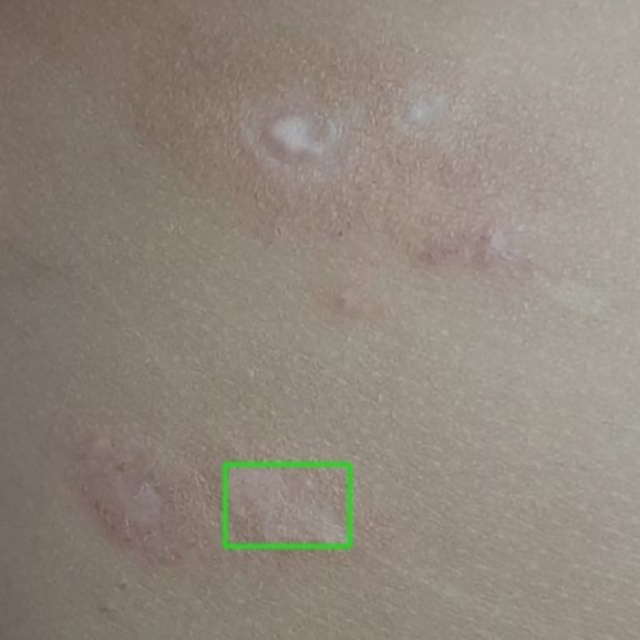Eczema: (225, 464, 349, 546)
